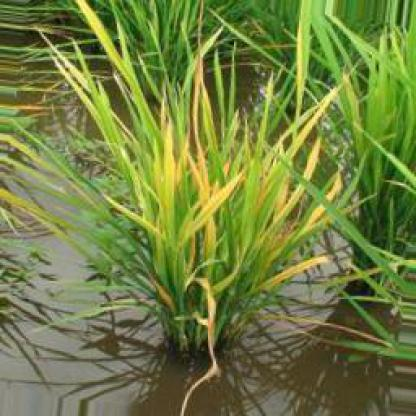Tungro: (168, 154, 256, 258), (83, 3, 143, 106), (185, 278, 229, 416), (277, 183, 344, 264), (277, 128, 334, 217), (283, 84, 338, 162), (265, 248, 333, 290), (102, 195, 164, 237), (164, 110, 180, 178)
